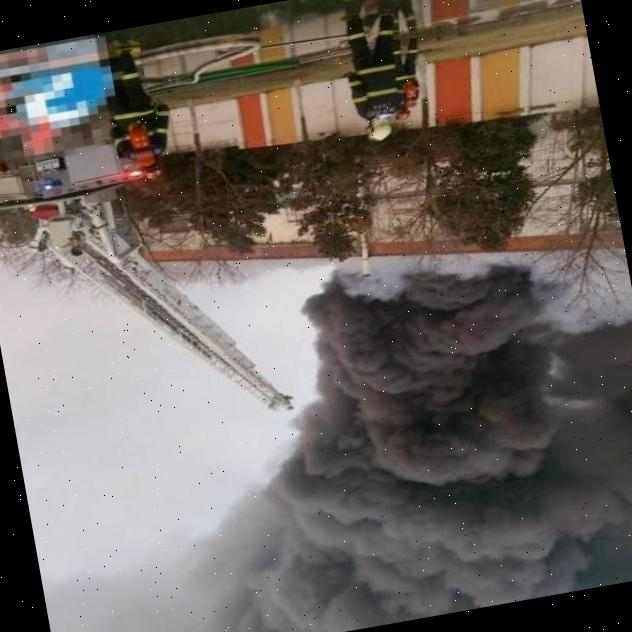smoke: (305, 241, 549, 627), (508, 318, 632, 595), (254, 412, 366, 632), (180, 510, 289, 632)
